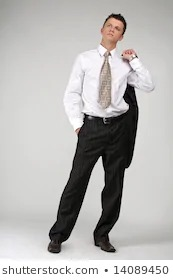F_belt: (82, 114, 131, 124)
F_dress pants: (49, 108, 133, 241)
F_shirt: (60, 43, 158, 129)
F_tie: (98, 51, 115, 113)
